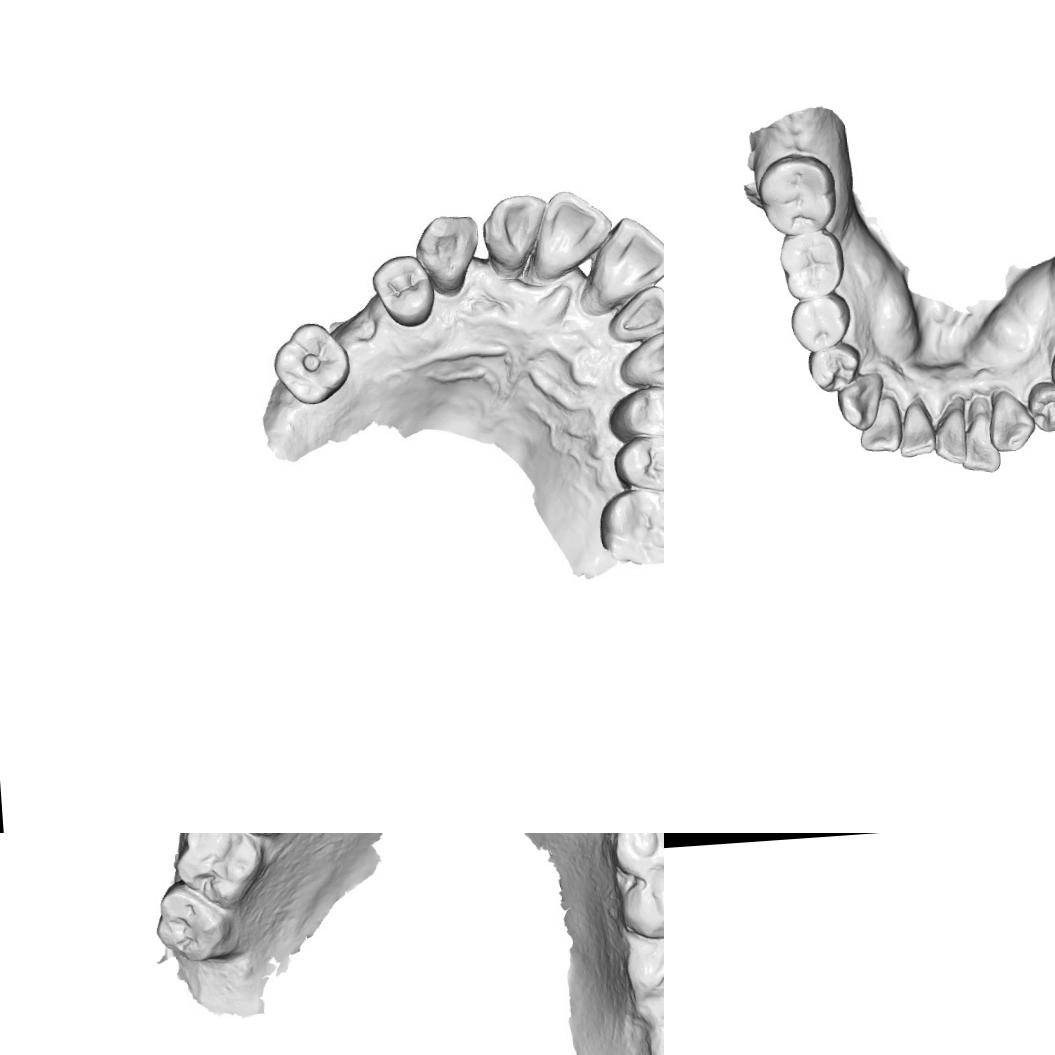canine: (413, 210, 478, 298), (984, 386, 1038, 454), (834, 370, 888, 432), (611, 327, 664, 389)
incisor: (522, 182, 614, 290), (583, 212, 664, 304), (478, 192, 548, 272), (956, 394, 1002, 474), (604, 282, 664, 341), (855, 393, 903, 454), (929, 393, 968, 466), (895, 398, 937, 458)
molar: (270, 318, 355, 411), (150, 876, 234, 966), (172, 833, 267, 911), (754, 151, 838, 237), (592, 484, 664, 567), (776, 230, 847, 302), (622, 925, 664, 1022)
premolar: (370, 251, 438, 330), (788, 292, 853, 354), (605, 385, 664, 441), (607, 437, 664, 494), (805, 340, 862, 394), (625, 874, 664, 940), (614, 833, 664, 879), (1024, 379, 1055, 434)
